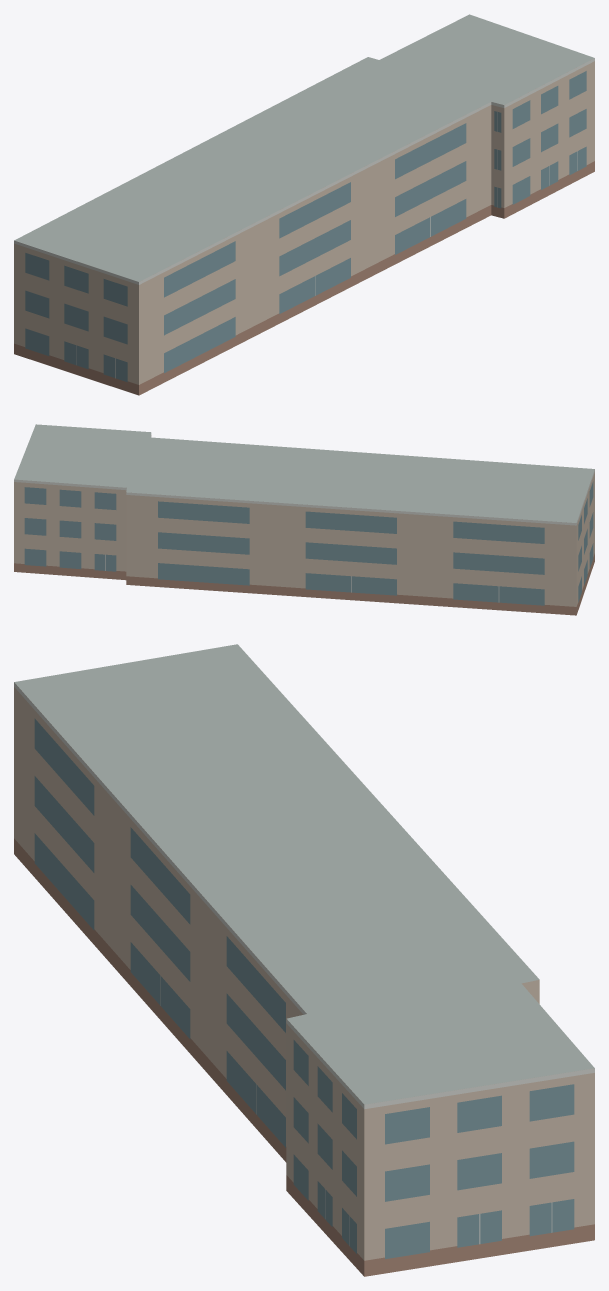
File: survey-upis-32841824.glb
3 views of the same model, one above another, from view 1: azimuth 30°, elevation 25°; view 2: azimuth 150°, elevation 25°; view 3: azimuth 270°, elevation 25° (orthographic). The views are drawn at different scales.
Parts seen in each view (by area): view 1: survey-upis-32841824.tmp; view 2: survey-upis-32841824.tmp; view 3: survey-upis-32841824.tmp.
Part boxes in pixels (x1,y1,x2,y2): survey-upis-32841824.tmp: (14, 14, 594, 395); survey-upis-32841824.tmp: (14, 424, 594, 615); survey-upis-32841824.tmp: (14, 644, 594, 1276).
Bounding box in the file's own units: 52.52 × 9.15 × 28.
